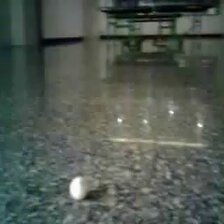w: (70, 176, 87, 199)
